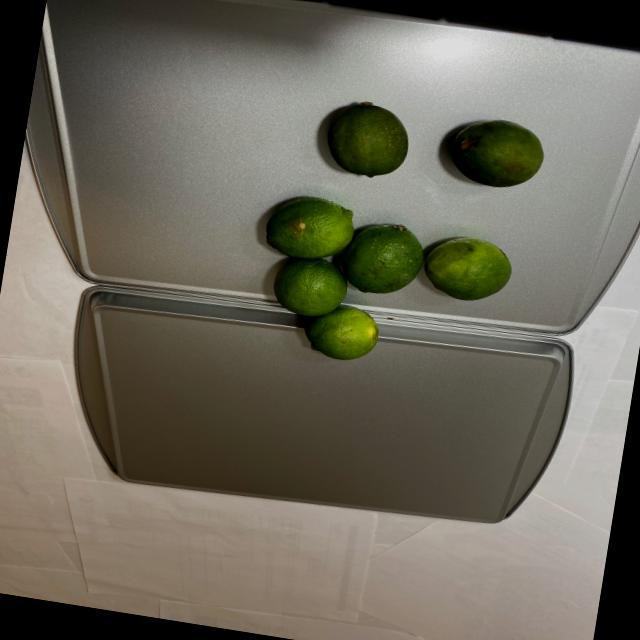lemon: (246, 84, 561, 390)
